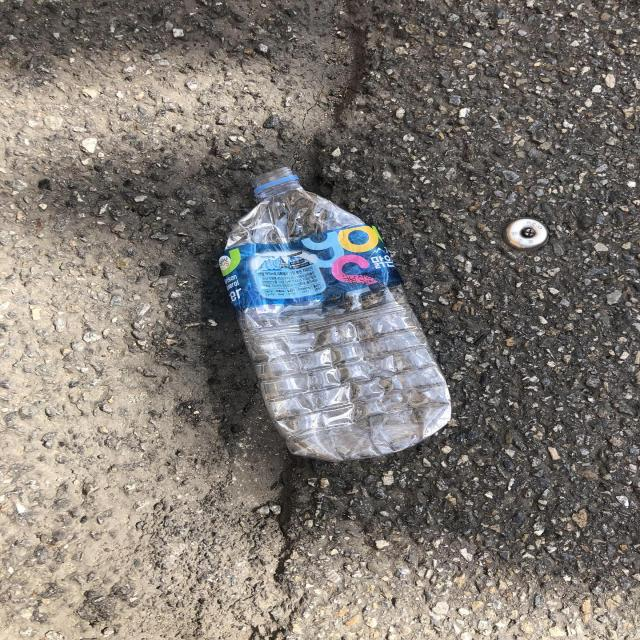plastic: (218, 167, 452, 462)
